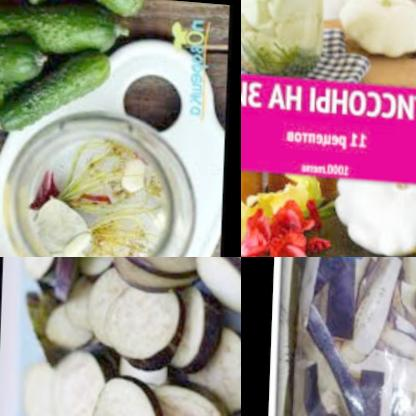cucumber: (0, 40, 110, 136), (0, 0, 129, 55), (0, 37, 48, 92), (21, 0, 148, 18), (0, 71, 20, 151)
eggplant: (10, 257, 241, 416), (286, 257, 416, 416)
garlic: (57, 223, 95, 257)
squash-patisson: (338, 150, 416, 251), (337, 0, 416, 52), (241, 0, 321, 47)
